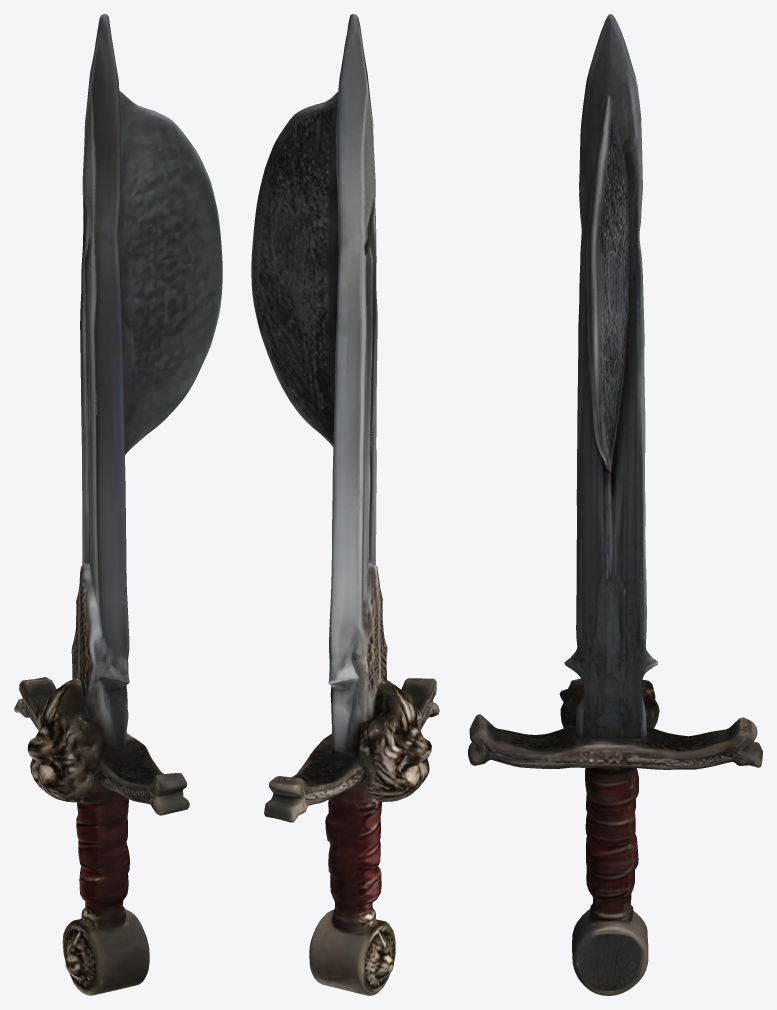
The model's file is lionguard_sword.glb.
The picture shows the model from 3 angles, left to right: view 1: azimuth 30°, elevation 25°; view 2: azimuth 150°, elevation 25°; view 3: azimuth 270°, elevation 25°; orthographic projection.
Parts seen in each view (by area): view 1: lionguard_sword; view 2: lionguard_sword; view 3: lionguard_sword.
Part boxes in pixels (x1,y1,x2,y2): lionguard_sword: (14,14,222,995); lionguard_sword: (251,14,439,995); lionguard_sword: (468,14,762,995).
Size of the model in its own units: 0.2187 by 1.09 by 0.3009.
Materials: 1 (1 with a texture image).
